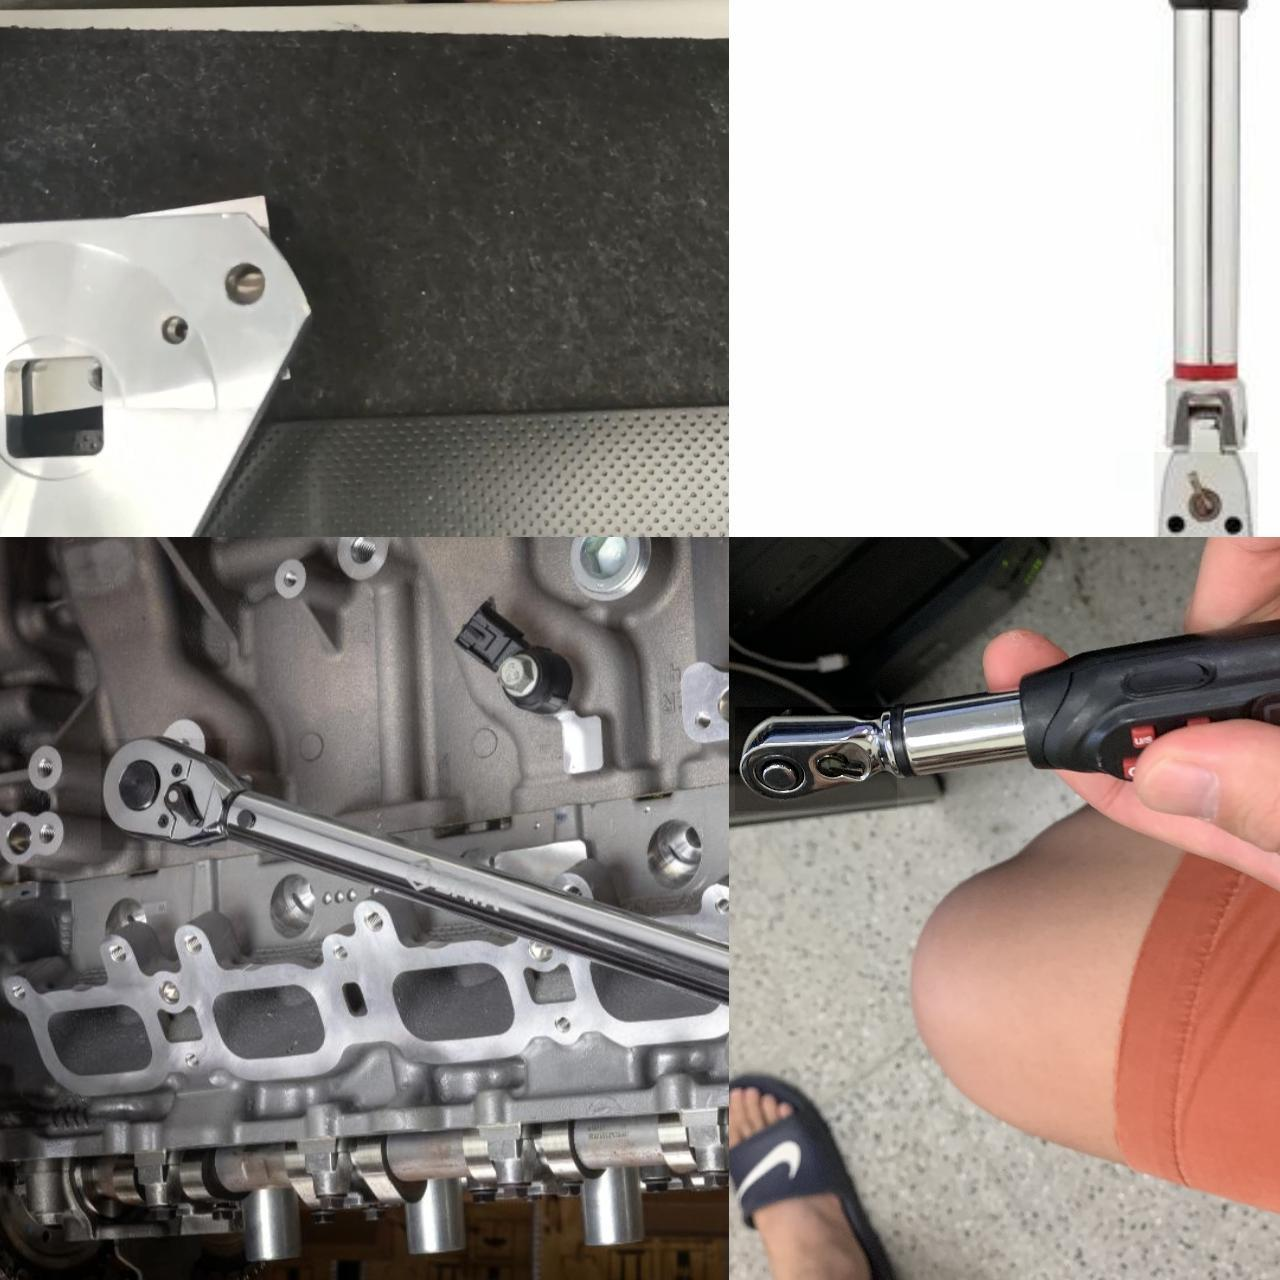Tool: (735, 707, 897, 811), (101, 738, 227, 850), (1155, 452, 1258, 537)
